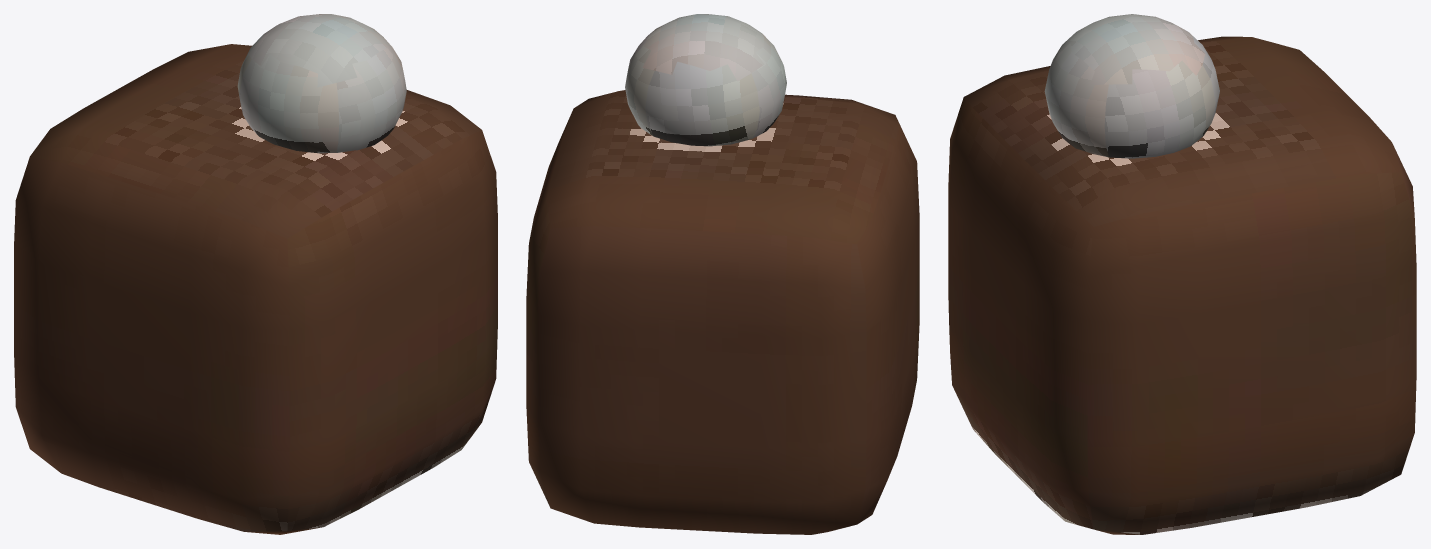
The model's file is pellet_cocoa.glb.
3 views of the same model, side by side, from view 1: azimuth 30°, elevation 25°; view 2: azimuth 150°, elevation 25°; view 3: azimuth 270°, elevation 25° (orthographic). The views are drawn at different scales.
Parts seen in each view (by area): view 1: prop_pellet_cocoa_felt; view 2: prop_pellet_cocoa_felt; view 3: prop_pellet_cocoa_felt.
Boxes of the visible parts, box(x1,y1,x2,y2) form: prop_pellet_cocoa_felt: box(14, 14, 497, 534); prop_pellet_cocoa_felt: box(526, 14, 919, 534); prop_pellet_cocoa_felt: box(948, 14, 1416, 534).
Bounding box in the file's own units: 0.056 × 0.0615 × 0.056.
1 material, 1 textured.
